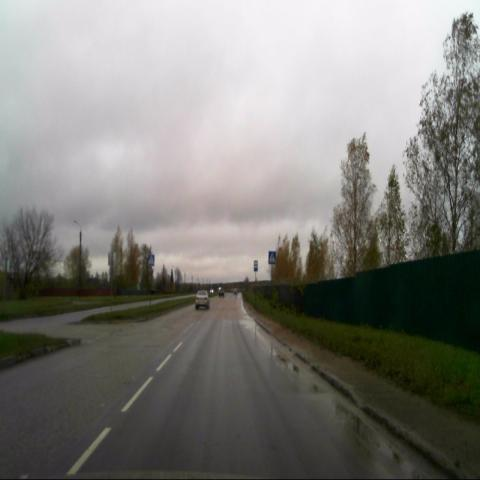5_19_1: (147, 253, 156, 267), (268, 251, 276, 264)
